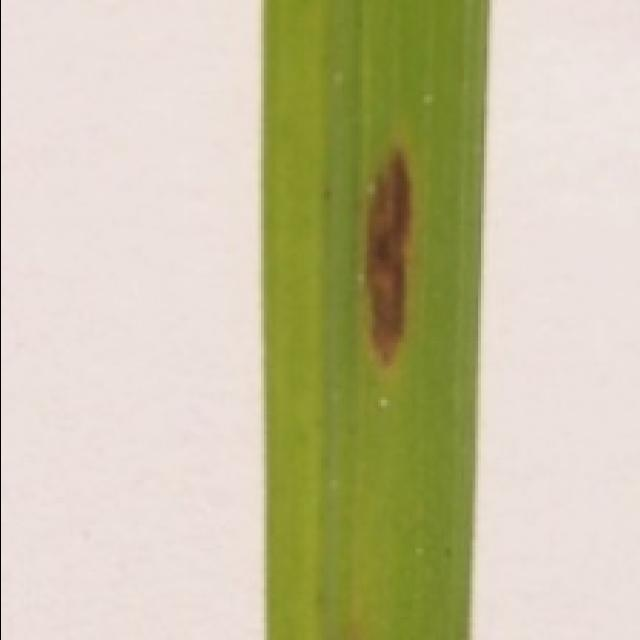Unhealthy: (358, 136, 416, 385)
